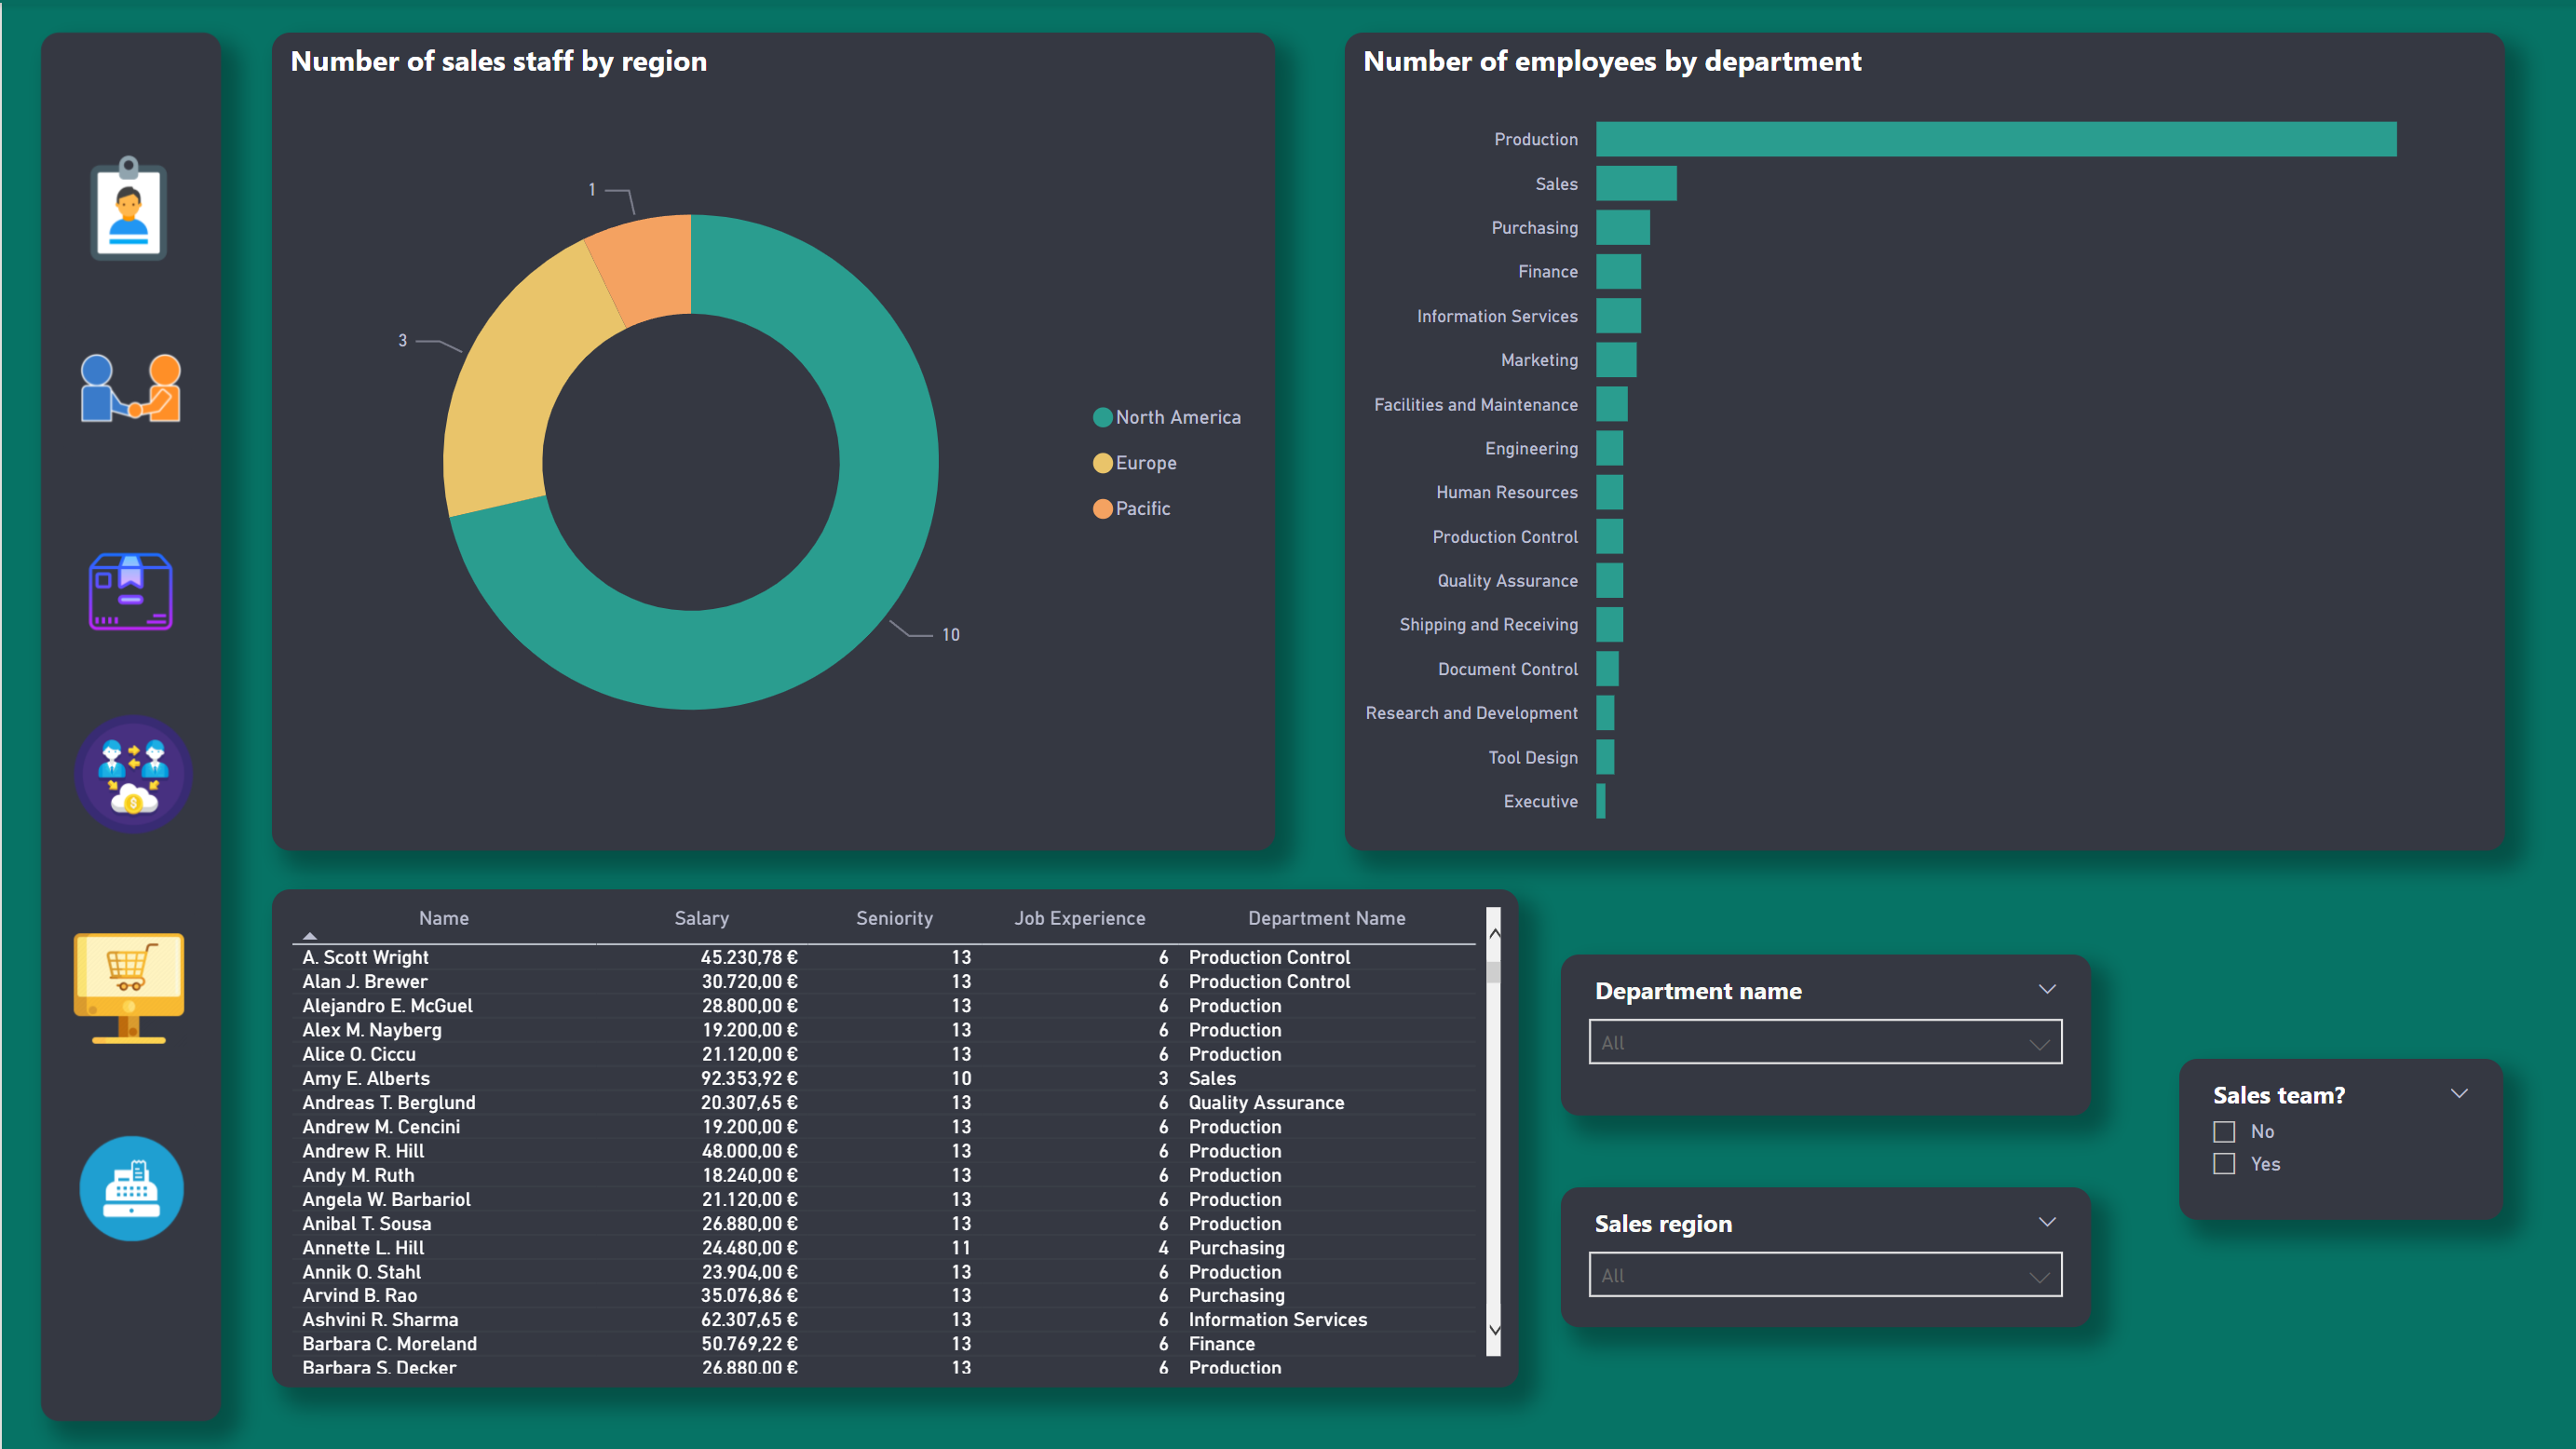

The page's visual inventory and layout, read from the dashboard file:
{"tool":"powerbi","page":{"name":"Employee","canvas":[1280,720],"ordinal":0},"visuals":[{"type":"clusteredBarChart","title":"Number of employees by department","fields":{"Category":["DimEmployee.DepartmentName"],"Y":["DimEmployee.EmpCount"]},"box":[666.9,14.7,576.3,406.7],"z":0},{"type":"tableEx","fields":{"Values":["DimEmployee.FullName","Sum(DimEmployee.Salary)","Sum(DimEmployee.Seniority)","Sum(DimEmployee.JobExp)","DimEmployee.DepartmentName"]},"box":[133.8,440.4,619.5,247.6],"z":1000},{"type":"slicer","fields":{"Values":["DimEmployee.DepartmentName"]},"box":[774.3,473,263.4,80.1],"z":2000},{"type":"slicer","fields":{"Values":["DimSalesTerritory.SalesTerritoryGroup"]},"box":[774.3,588.9,263.4,69.5],"z":3000},{"type":"slicer","fields":{"Values":["DimEmployee.SalesTeam"]},"box":[1082,524.7,160.8,79.9],"z":4000},{"type":"donutChart","title":"Number of sales staff by region","fields":{"Category":["DimSalesTerritory.SalesTerritoryGroup"],"Y":["DimEmployee.No. Sales Emp"]},"box":[133.8,14.7,498.3,406.7],"z":5000},{"type":"shape","box":[19.2,14.9,89.6,690.1],"z":6000},{"type":"actionButton","title":"Employee","box":[30.9,67.2,65.1,69.3],"z":7000},{"type":"actionButton","box":[30.9,152.5,65.1,75.7],"z":8000},{"type":"actionButton","box":[30.9,253.9,65.1,75.7],"z":9000},{"type":"actionButton","box":[25.6,343.5,76.8,77.9],"z":10000},{"type":"actionButton","box":[25.6,452.3,76.8,72.5],"z":11000},{"type":"actionButton","box":[30.9,552.5,66.1,71.5],"z":12000}]}

Visuals, with their boxes in screenshot pixels (x1, y1, x2, y2), scaled from the page's 1280x720 canvas onto the 2576x1449 screenshot:
"Number of employees by department" clusteredBarChart: <region>1342, 30, 2501, 848</region>
tableEx - DimEmployee.FullName x Sum(DimEmployee.Salary): <region>269, 887, 1516, 1385</region>
slicer - DimEmployee.DepartmentName: <region>1558, 952, 2088, 1113</region>
slicer - DimSalesTerritory.SalesTerritoryGroup: <region>1558, 1185, 2088, 1325</region>
slicer - DimEmployee.SalesTeam: <region>2177, 1056, 2501, 1217</region>
"Number of sales staff by region" donutChart: <region>269, 30, 1272, 848</region>
shape: <region>38, 30, 219, 1419</region>
"Employee" actionButton: <region>62, 135, 193, 275</region>
actionButton: <region>62, 307, 193, 459</region>
actionButton: <region>62, 511, 193, 663</region>
actionButton: <region>51, 691, 206, 848</region>
actionButton: <region>51, 910, 206, 1056</region>
actionButton: <region>62, 1112, 196, 1256</region>
